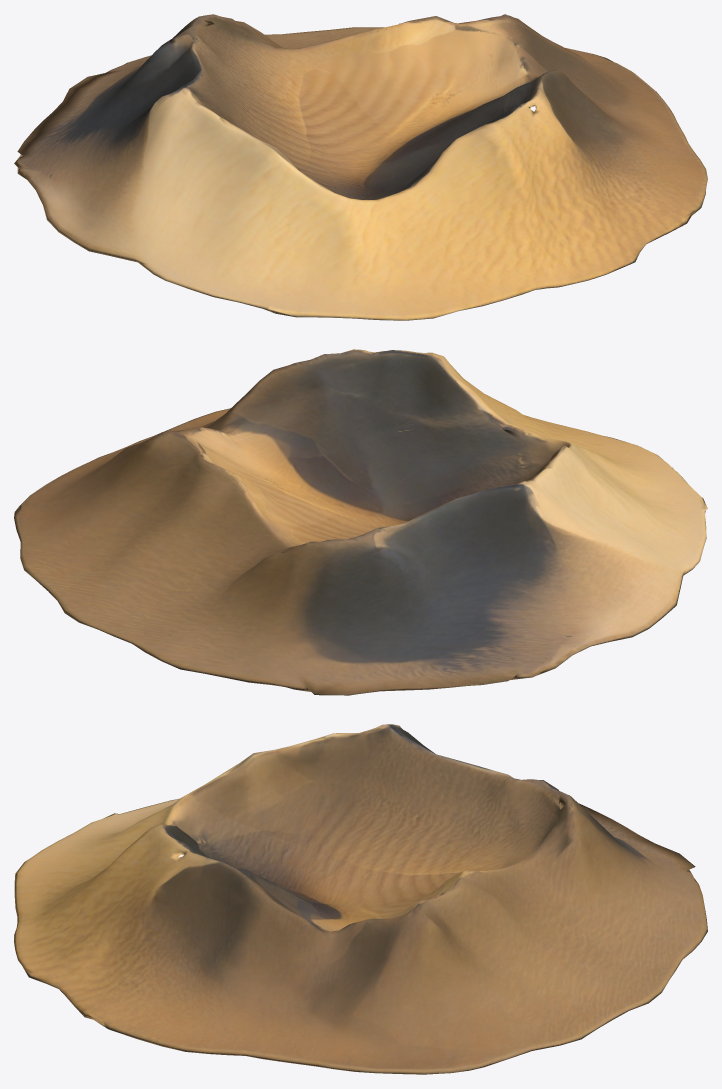
File: 0d3e109d-3ab8-4213-9eea-4e8c9b289ee9.glb
3 renders of one model, top to bottom at view 1: azimuth 30°, elevation 25°; view 2: azimuth 150°, elevation 25°; view 3: azimuth 270°, elevation 25°, orthographic. The views are drawn at different scales.
Size of the model in its own units: 1.99 by 0.3697 by 1.97.
Materials: 1 (1 with a texture image).
